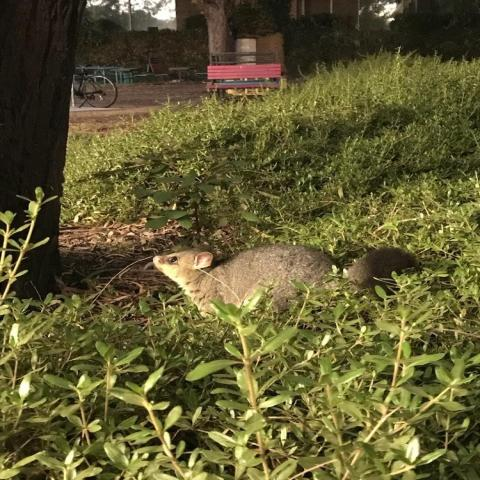small_animal: (150, 242, 420, 319)
